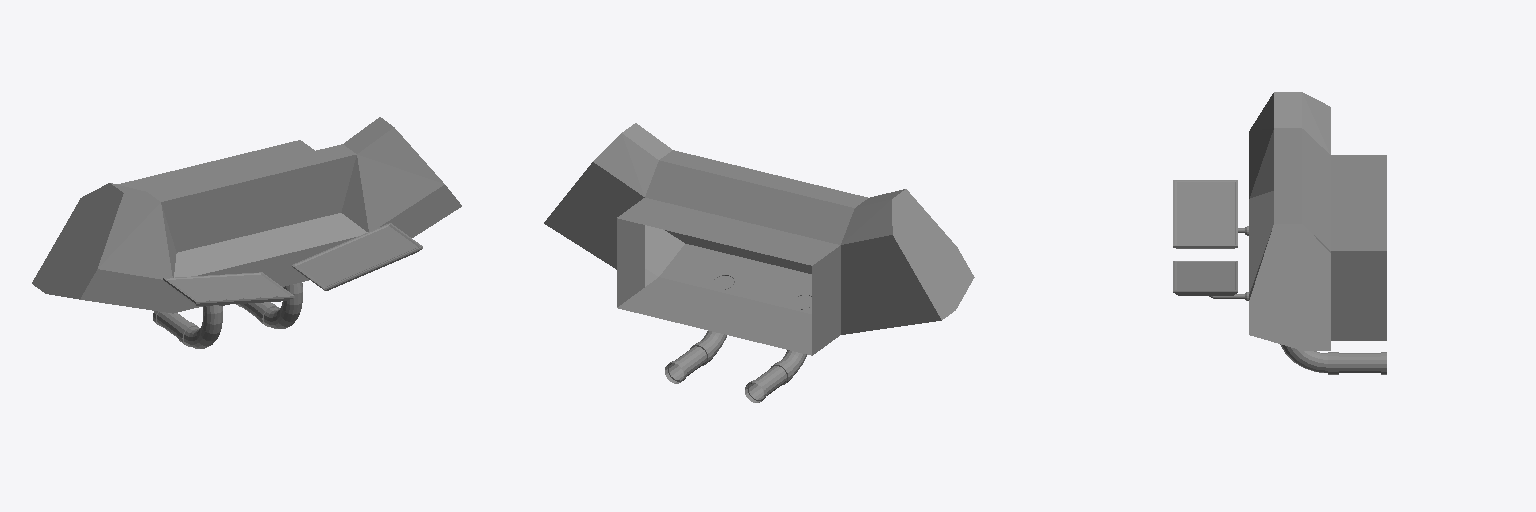
Rendered from ControlPanel-LM.obj.
The picture shows the model from 3 angles: view 1: azimuth 30°, elevation 25°; view 2: azimuth 150°, elevation 25°; view 3: azimuth 270°, elevation 25°; orthographic projection.
Visible parts, largest first — view 1: SM_ControlTerminal_E; view 2: SM_ControlTerminal_E; view 3: SM_ControlTerminal_E.
Part boxes in pixels (x1,y1,x2,y2): SM_ControlTerminal_E: (32, 117, 461, 348); SM_ControlTerminal_E: (544, 123, 974, 402); SM_ControlTerminal_E: (1173, 92, 1386, 374).
Bounding box in the file's own units: 160 × 75.41 × 74.56.